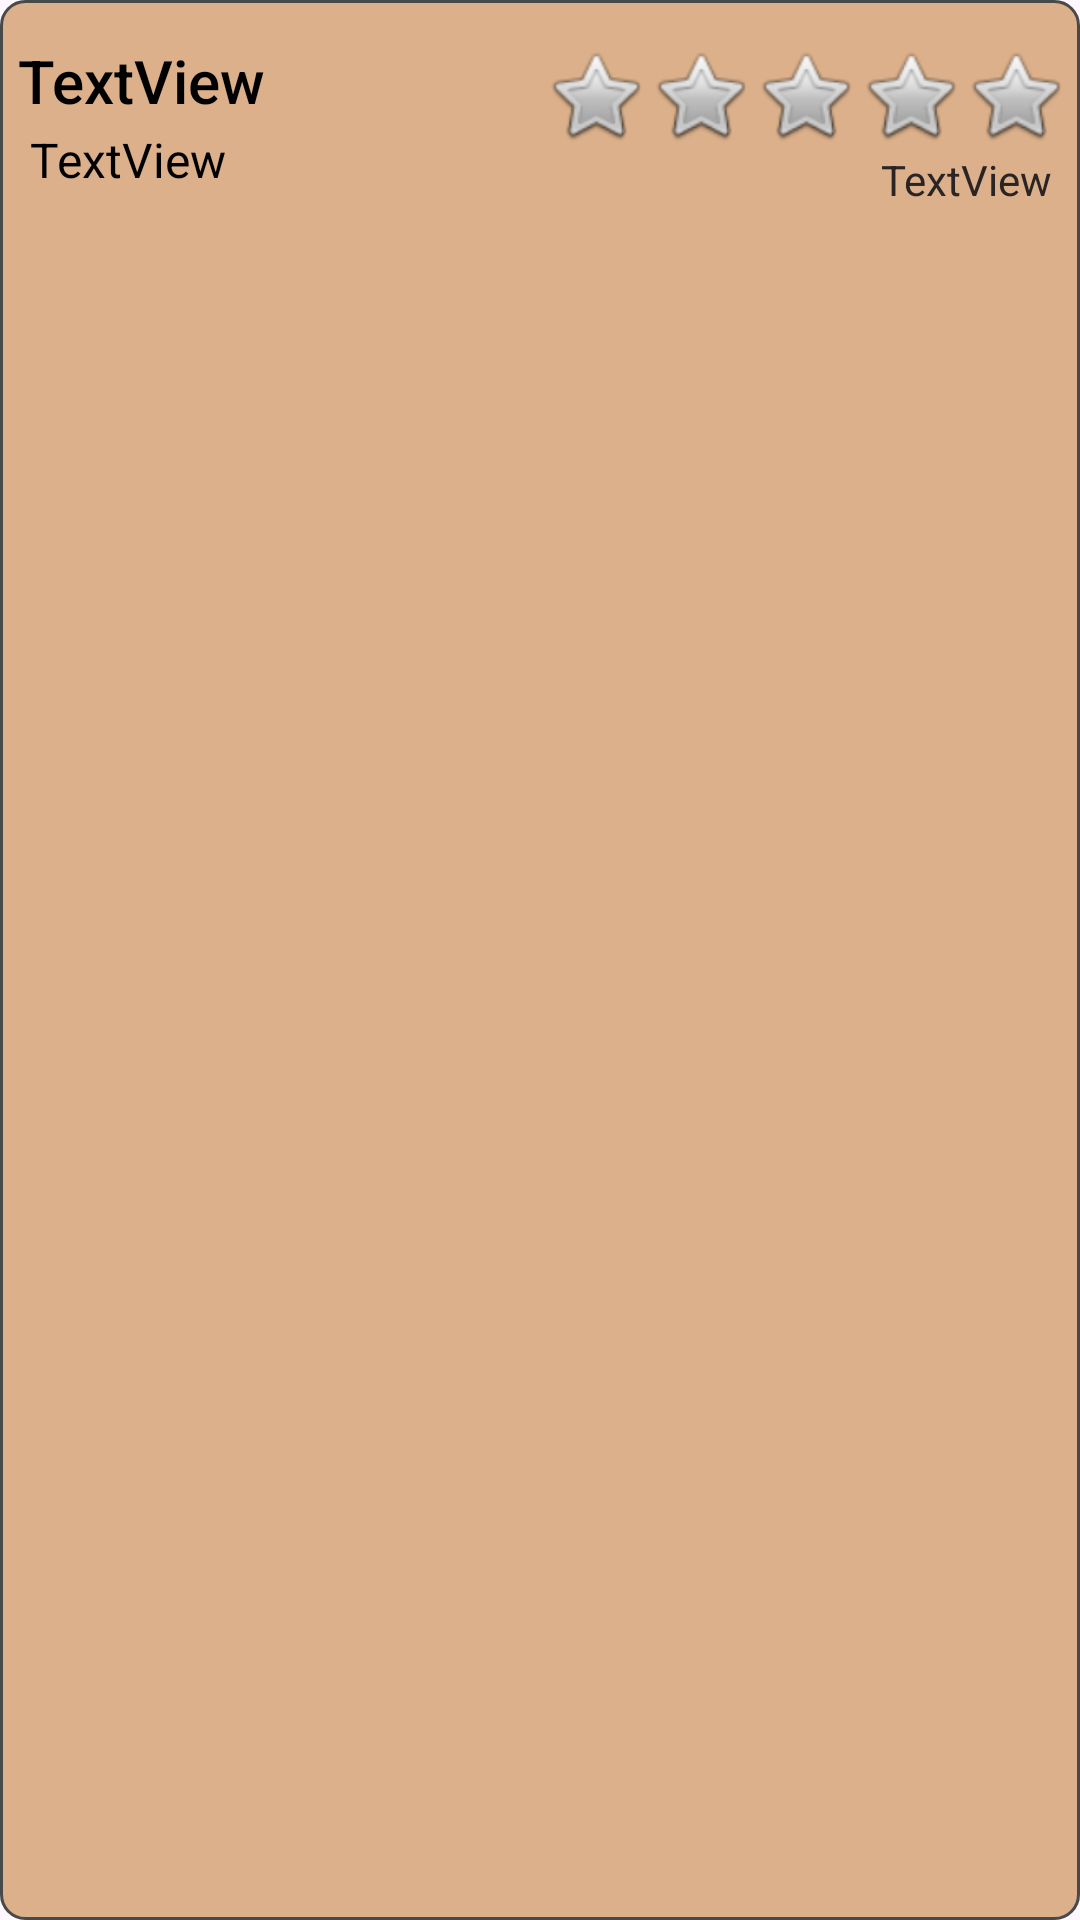

Named icons in this screenshot (1080px×1920px) and their bounding boxes, (x1, y1, x2, y2):
star off: (553, 54, 640, 139), (658, 54, 745, 139), (763, 54, 850, 139), (868, 54, 955, 139), (973, 54, 1060, 139)
